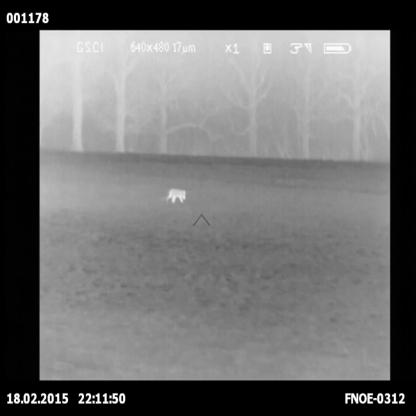rehkitze: (169, 188, 189, 206)
